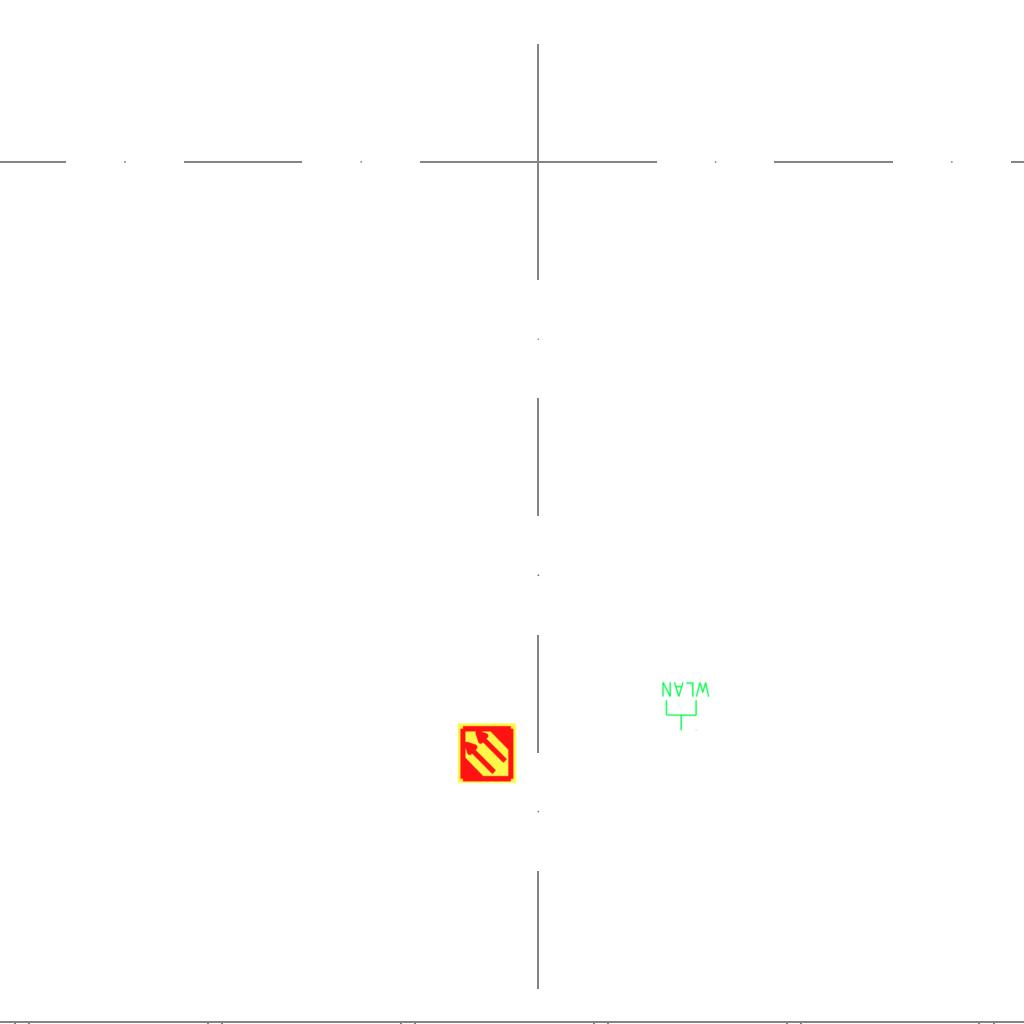ASR_Ansaugrauchmelder: (456, 722, 518, 784)
WLAN: (660, 680, 712, 732)
